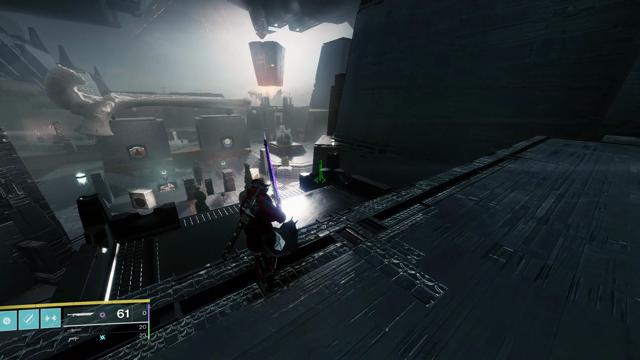commune: (251, 109, 257, 115)
pyramid: (129, 146, 146, 159)
traveler: (222, 137, 233, 148)
